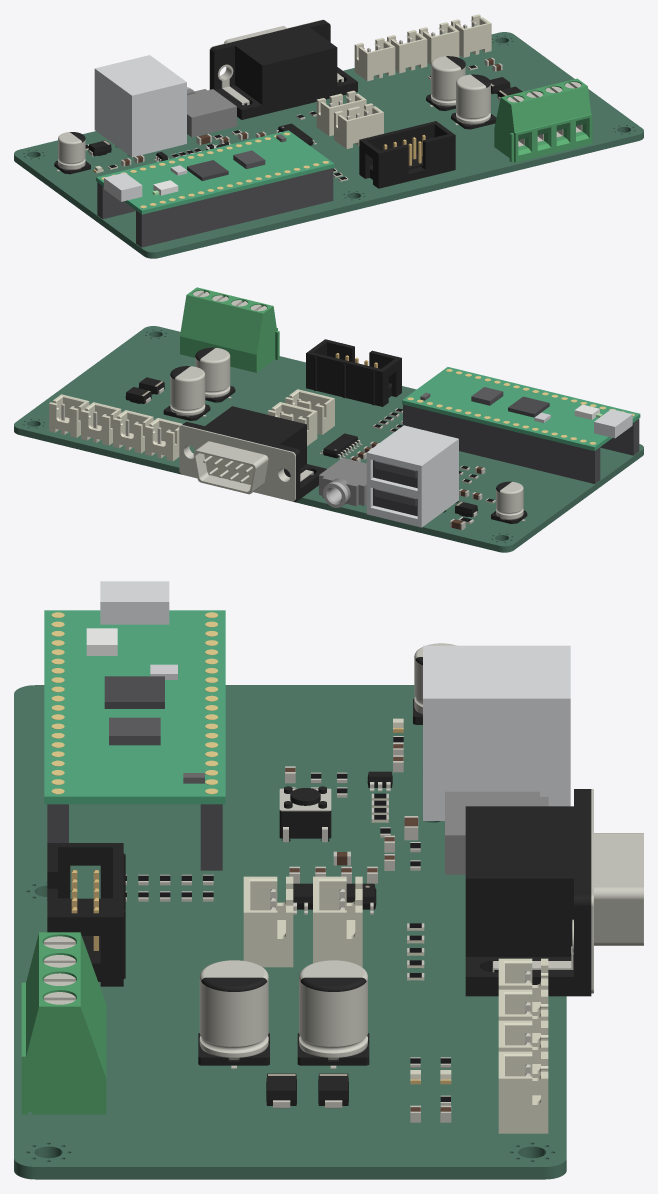
The model's file is comel.glb.
3 views of the same model, one above another, from view 1: azimuth 30°, elevation 25°; view 2: azimuth 150°, elevation 25°; view 3: azimuth 270°, elevation 25° (orthographic). The views are drawn at different scales.
Parts seen in each view (by area): view 1: =>[0:1:1:103], =>[0:1:1:35], =>[0:1:1:17], =>[0:1:1:45], =>[0:1:1:43], =>[0:1:1:41], =>[0:1:1:96], =>[0:1:1:3] (×4), =>[0:1:1:13] (×2), =>[0:1:1:5] (×2), =>[0:1:1:98], =>[0:1:1:102] (+4 smaller); view 2: =>[0:1:1:103], =>[0:1:1:35], =>[0:1:1:45], =>[0:1:1:17], =>[0:1:1:41], =>[0:1:1:44], =>[0:1:1:3] (×4), =>[0:1:1:96], =>[0:1:1:13] (×2), =>[0:1:1:5] (×2), =>[0:1:1:98], =>[0:1:1:102] (+7 smaller); view 3: =>[0:1:1:103], =>[0:1:1:35], =>[0:1:1:45], =>[0:1:1:17], =>[0:1:1:13] (×2), =>[0:1:1:41], =>[0:1:1:3] (×4), =>[0:1:1:5] (×2), =>[0:1:1:96], =>[0:1:1:89], =>[0:1:1:98], =>[0:1:1:39] (+7 smaller).
Boxes of the visible parts, x1,y1,x2,y2 form: =>[0:1:1:103]: (14,32,643,258); =>[0:1:1:35]: (209,19,357,119); =>[0:1:1:17]: (94,55,186,157); =>[0:1:1:45]: (96,130,334,214); =>[0:1:1:43]: (136,168,333,247); =>[0:1:1:41]: (494,78,592,162); =>[0:1:1:96]: (359,121,455,188); =>[0:1:1:3] (×4): (354,14,491,81); =>[0:1:1:13] (×2): (426,56,496,129); =>[0:1:1:5] (×2): (316,90,383,148); =>[0:1:1:98]: (187,87,236,137); =>[0:1:1:102]: (54,132,90,174); =>[0:1:1:103]: (14,326,643,552); =>[0:1:1:35]: (179,406,326,501); =>[0:1:1:45]: (402,367,640,450); =>[0:1:1:17]: (366,425,458,527); =>[0:1:1:41]: (180,287,279,372); =>[0:1:1:44]: (403,404,600,483); =>[0:1:1:3] (×4): (49,394,182,461); =>[0:1:1:96]: (306,339,401,406); =>[0:1:1:13] (×2): (163,347,235,420); =>[0:1:1:5] (×2): (267,389,334,445); =>[0:1:1:98]: (319,458,366,507); =>[0:1:1:102]: (491,481,527,523); =>[0:1:1:103]: (14,685,566,1179); =>[0:1:1:35]: (465,789,643,996); =>[0:1:1:45]: (44,610,225,804); =>[0:1:1:17]: (423,645,570,820); =>[0:1:1:13] (×2): (198,960,369,1068); =>[0:1:1:41]: (21,932,106,1114); =>[0:1:1:3] (×4): (498,958,548,1133); =>[0:1:1:5] (×2): (243,876,362,967); =>[0:1:1:96]: (47,843,125,986); =>[0:1:1:89]: (100,581,169,624); =>[0:1:1:98]: (445,791,548,874); =>[0:1:1:39]: (279,786,331,842).
Bounding box in the file's own units: 134 × 21 × 72.94.
